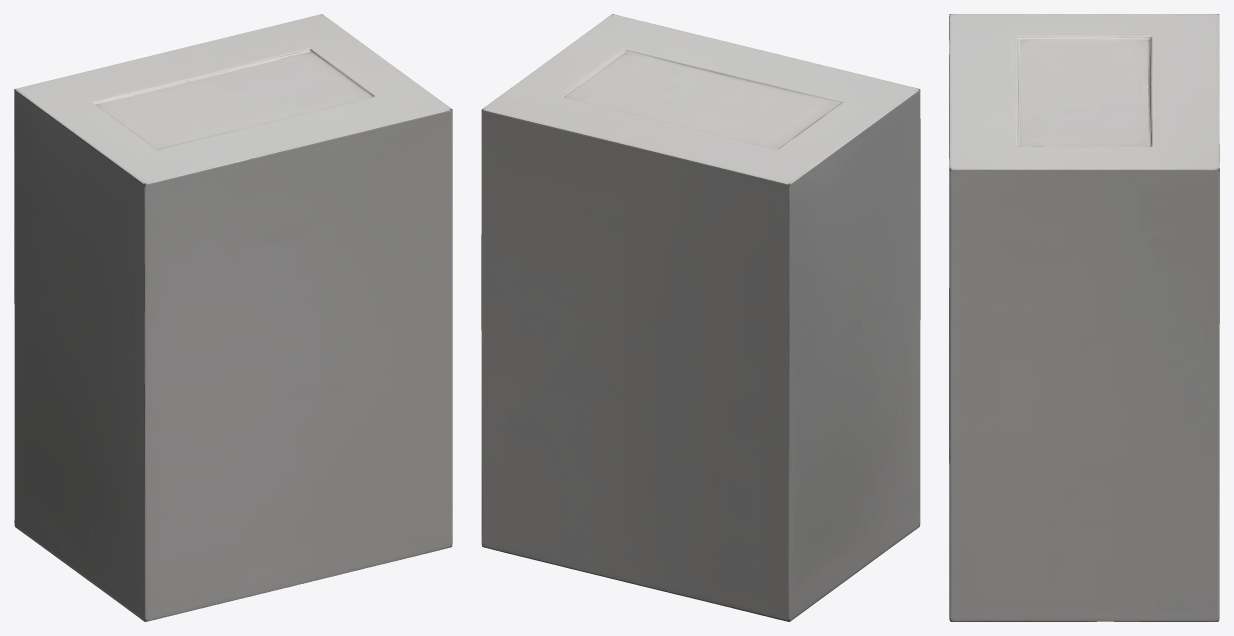
File: m1Pedestal.glb
The picture shows the model from 3 angles, left to right: view 1: azimuth 30°, elevation 25°; view 2: azimuth 150°, elevation 25°; view 3: azimuth 270°, elevation 25°; orthographic projection. The views are drawn at different scales.
Visible parts, largest first — view 1: geometry_0; view 2: geometry_0; view 3: geometry_0.
Part boxes in pixels (box(x1,y1,x2,y2)): geometry_0: box(14, 14, 452, 621); geometry_0: box(481, 14, 920, 621); geometry_0: box(949, 14, 1219, 621).
Bounding box in the file's own units: 0.7376 × 1 × 0.5421.
Materials: 1 (1 with a texture image).
